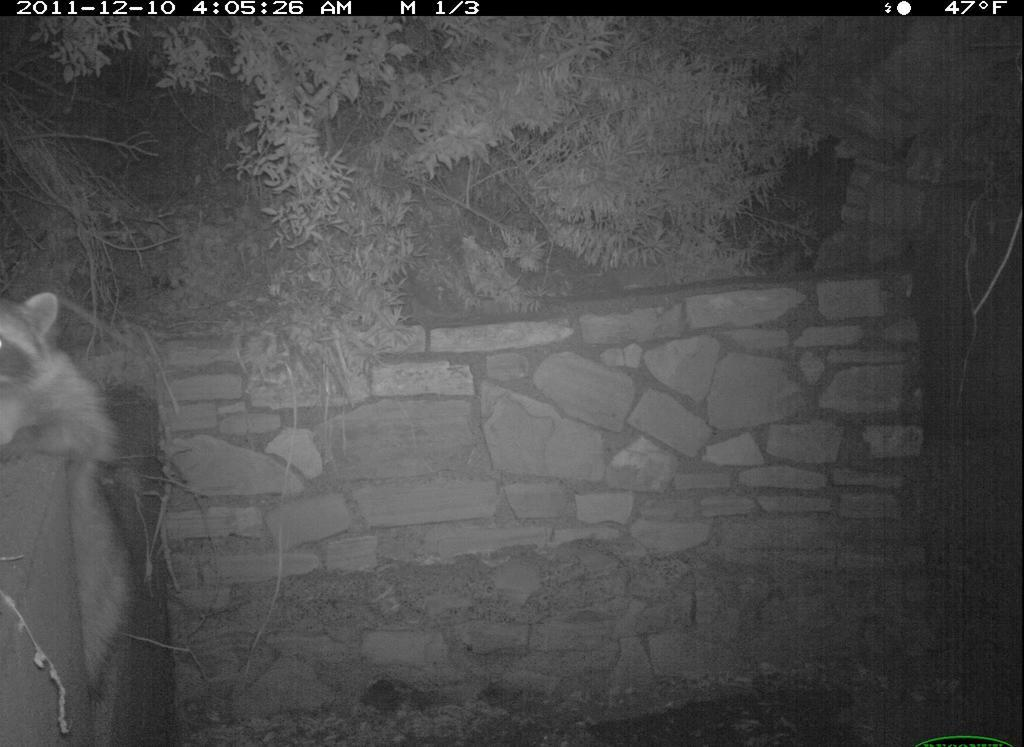raccoon: (4, 277, 143, 722)
